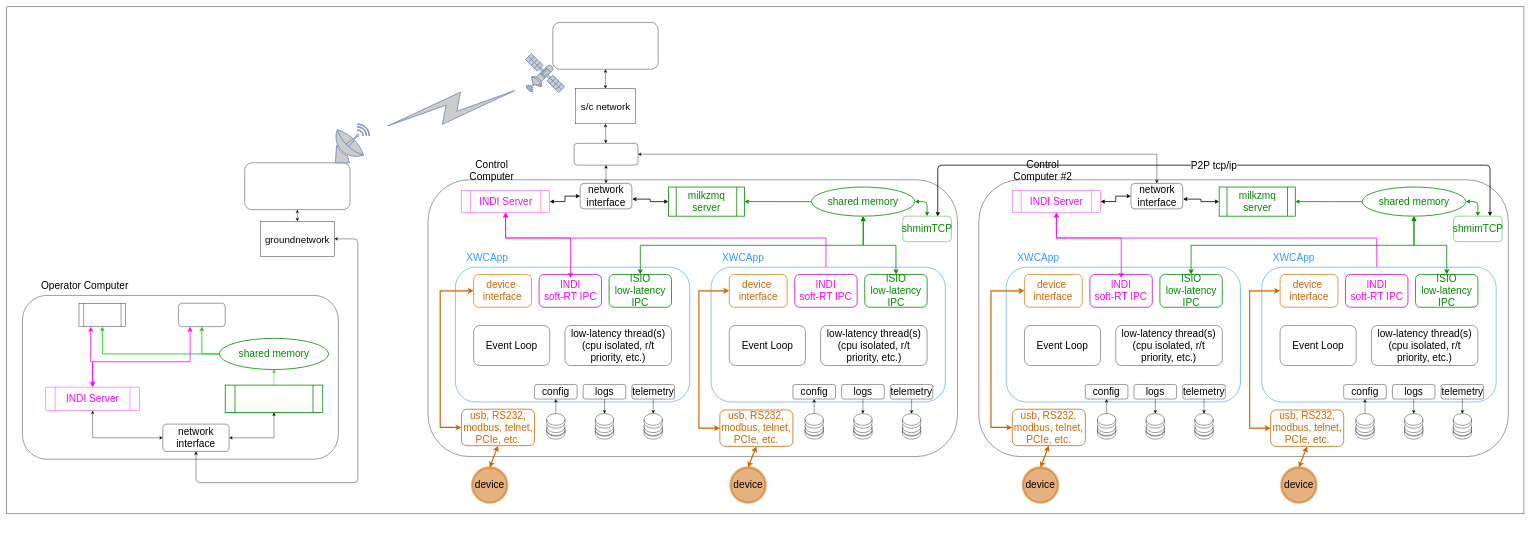
The diagram is 1531 pixels wide and 536 high, and some of its shapes have lost their labels. Here are the shapes that lost their labels. From the top down, the centre of each, then its label:
point (605, 45): "pacektizer" tcp/ip to/from ground
point (606, 154): tcp/ip network
point (297, 186): "pacektizer" tcp/ip to/from s/c
point (102, 315): script
point (201, 315): GUI
point (274, 399): milkzmq client
